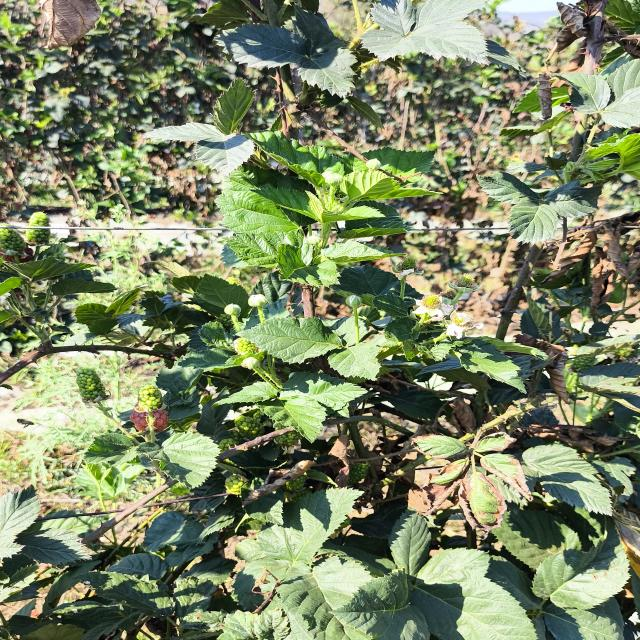boton: (321, 170, 343, 186), (248, 294, 267, 308), (241, 357, 260, 370), (346, 294, 362, 308), (306, 233, 322, 245), (225, 304, 241, 316), (366, 158, 381, 170)
